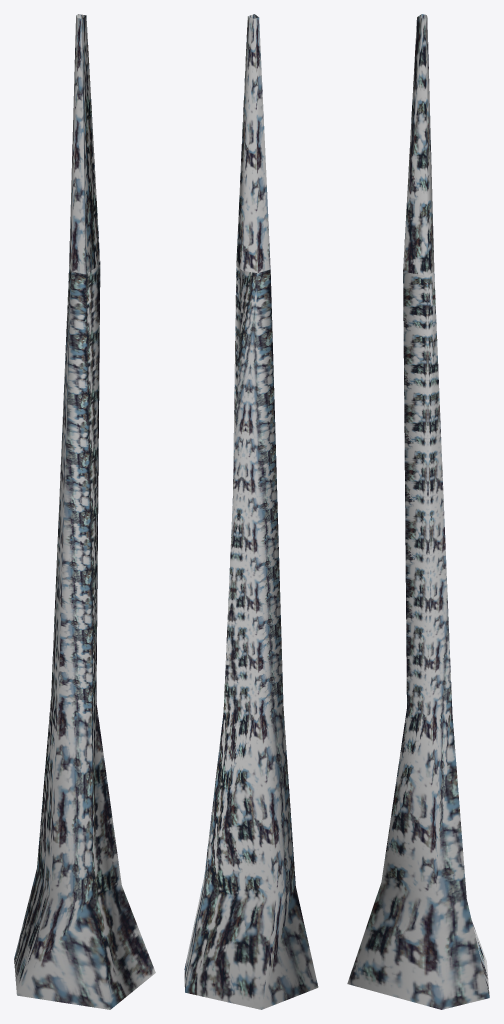
File: tree0101.obj
3 views of the same model, side by side, from view 1: azimuth 90°, elevation 25°; view 2: azimuth 150°, elevation 25°; view 3: azimuth 270°, elevation 25° (orthographic).
Parts seen in each view (by area): view 1: tree0101; view 2: tree0101; view 3: tree0101.
Part boxes in pixels (bbox=[...]): tree0101: bbox=[14, 14, 155, 1009]; tree0101: bbox=[184, 14, 318, 1009]; tree0101: bbox=[347, 14, 489, 1009].
Size of the model in its own units: 37.77 by 319 by 42.23.
